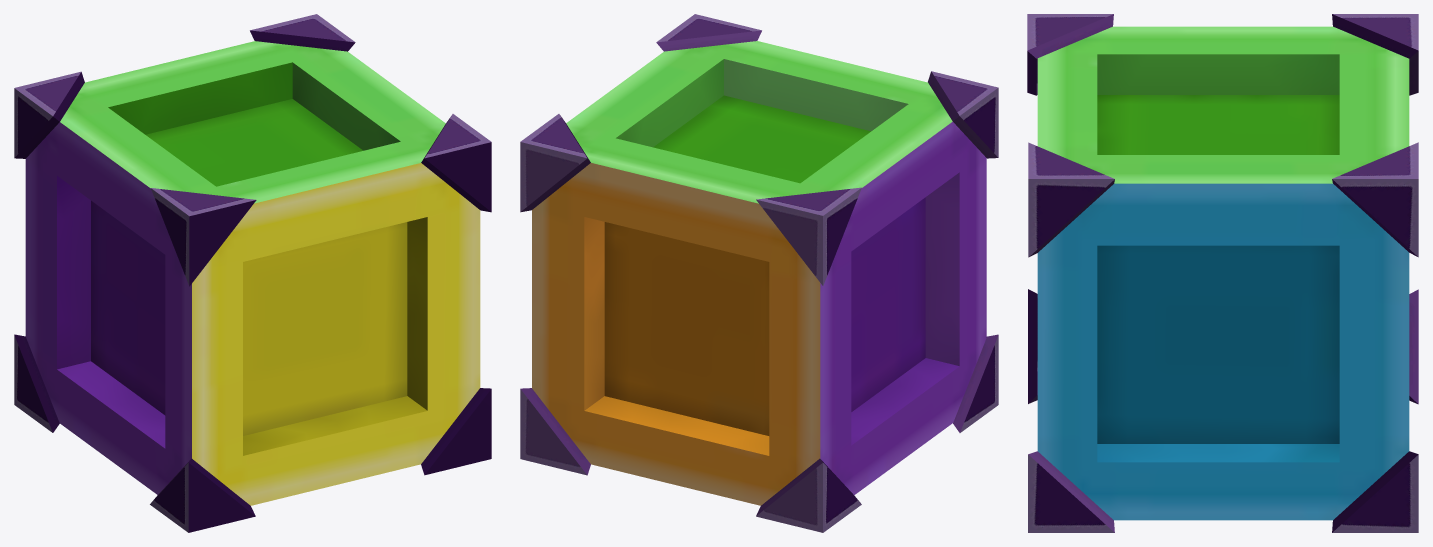
File: ColorCube.fbx
3 renders of one model, left to right at view 1: azimuth 30°, elevation 25°; view 2: azimuth 150°, elevation 25°; view 3: azimuth 270°, elevation 25°, orthographic. The views are drawn at different scales.
Visible parts, largest first — view 1: ColorCube; view 2: ColorCube; view 3: ColorCube.
Boxes of the visible parts, x1=… form: ColorCube: x1=14, y1=14, x2=491, y2=532; ColorCube: x1=520, y1=14, x2=998, y2=532; ColorCube: x1=1027, y1=14, x2=1418, y2=532.
Bounding box in the file's own units: 105 × 105 × 105.
